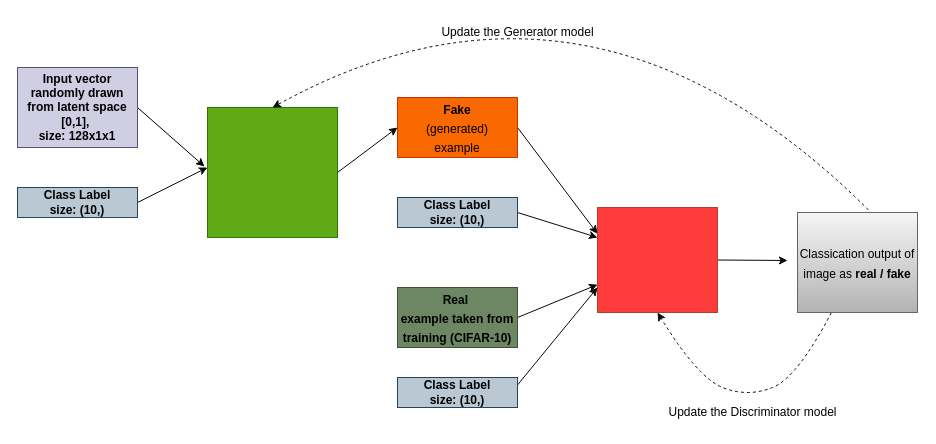
Image size: 936x444. Some labels were removed from this diagram. Each missing label, with the box of its shape:
Discriminator Model: (596, 206, 718, 312)
Generator Model: (206, 106, 338, 238)
